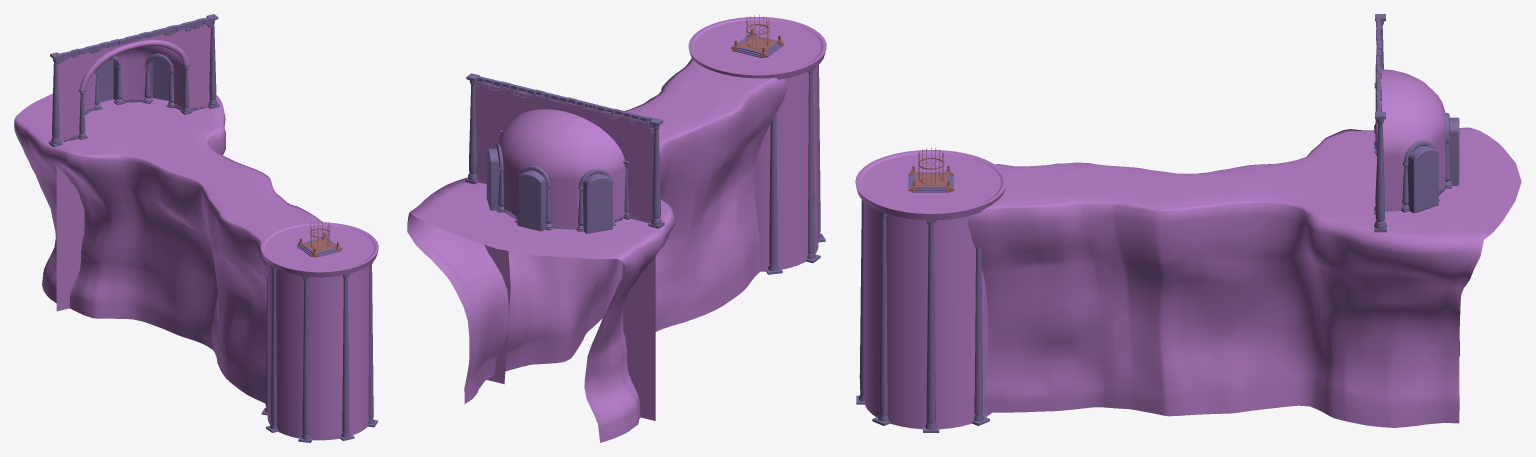
The model's file is cmc_finalfloor.fbx.
3 views of the same model, side by side, from view 1: azimuth 30°, elevation 25°; view 2: azimuth 150°, elevation 25°; view 3: azimuth 270°, elevation 25° (orthographic). The views are drawn at different scales.
Parts seen in each view (by area): view 1: fbr_land_bridge_01, fbr_tower_01, fbr_wall_upper, fbr_pillar_grp_01, fbr_wall_lower, fbr_alcove_03, fbr_bricks_upper, fbr_alcove_02, fbr_pillar_01, fbr_pillar_04; view 2: fbr_land_bridge_01, fbr_wall_upper, fbr_tower_01, fbr_wall_lower, fbr_pillar_grp_01, fbr_alcove_01, fbr_alcove_02, fbr_bricks_upper, fbr_alcove_03, fbr_pillar_01, fbr_pillar_04, fbr_elevator_base; view 3: fbr_land_bridge_01, fbr_tower_01, fbr_wall_upper, fbr_pillar_grp_01, fbr_alcove_03, fbr_alcove_02, fbr_pillar_04.
Boxes of the visible parts, x1,y1,x2,y2 form: fbr_land_bridge_01: (14, 93, 321, 403); fbr_tower_01: (260, 222, 378, 440); fbr_wall_upper: (57, 24, 210, 141); fbr_pillar_grp_01: (261, 262, 377, 442); fbr_wall_lower: (56, 166, 84, 311); fbr_alcove_03: (142, 53, 174, 108); fbr_bricks_upper: (57, 17, 212, 64); fbr_alcove_02: (94, 56, 124, 110); fbr_pillar_01: (48, 52, 62, 147); fbr_pillar_04: (206, 14, 219, 108); fbr_land_bridge_01: (407, 58, 786, 442); fbr_wall_upper: (475, 81, 654, 229); fbr_tower_01: (688, 17, 826, 271); fbr_wall_lower: (484, 245, 655, 420); fbr_pillar_grp_01: (766, 64, 825, 274); fbr_alcove_01: (576, 168, 615, 233); fbr_alcove_02: (515, 165, 552, 231); fbr_bricks_upper: (475, 76, 657, 132); fbr_alcove_03: (486, 144, 504, 212); fbr_pillar_01: (648, 118, 664, 228); fbr_pillar_04: (465, 73, 479, 184); fbr_elevator_base: (731, 28, 784, 58); fbr_land_bridge_01: (967, 127, 1521, 427); fbr_tower_01: (855, 150, 1006, 429); fbr_wall_upper: (1375, 65, 1446, 211); fbr_pillar_grp_01: (856, 200, 989, 432); fbr_alcove_03: (1401, 140, 1439, 213); fbr_alcove_02: (1445, 113, 1459, 188); fbr_pillar_04: (1374, 112, 1386, 232).
Bounding box in the file's own units: 262 × 343 × 628.
